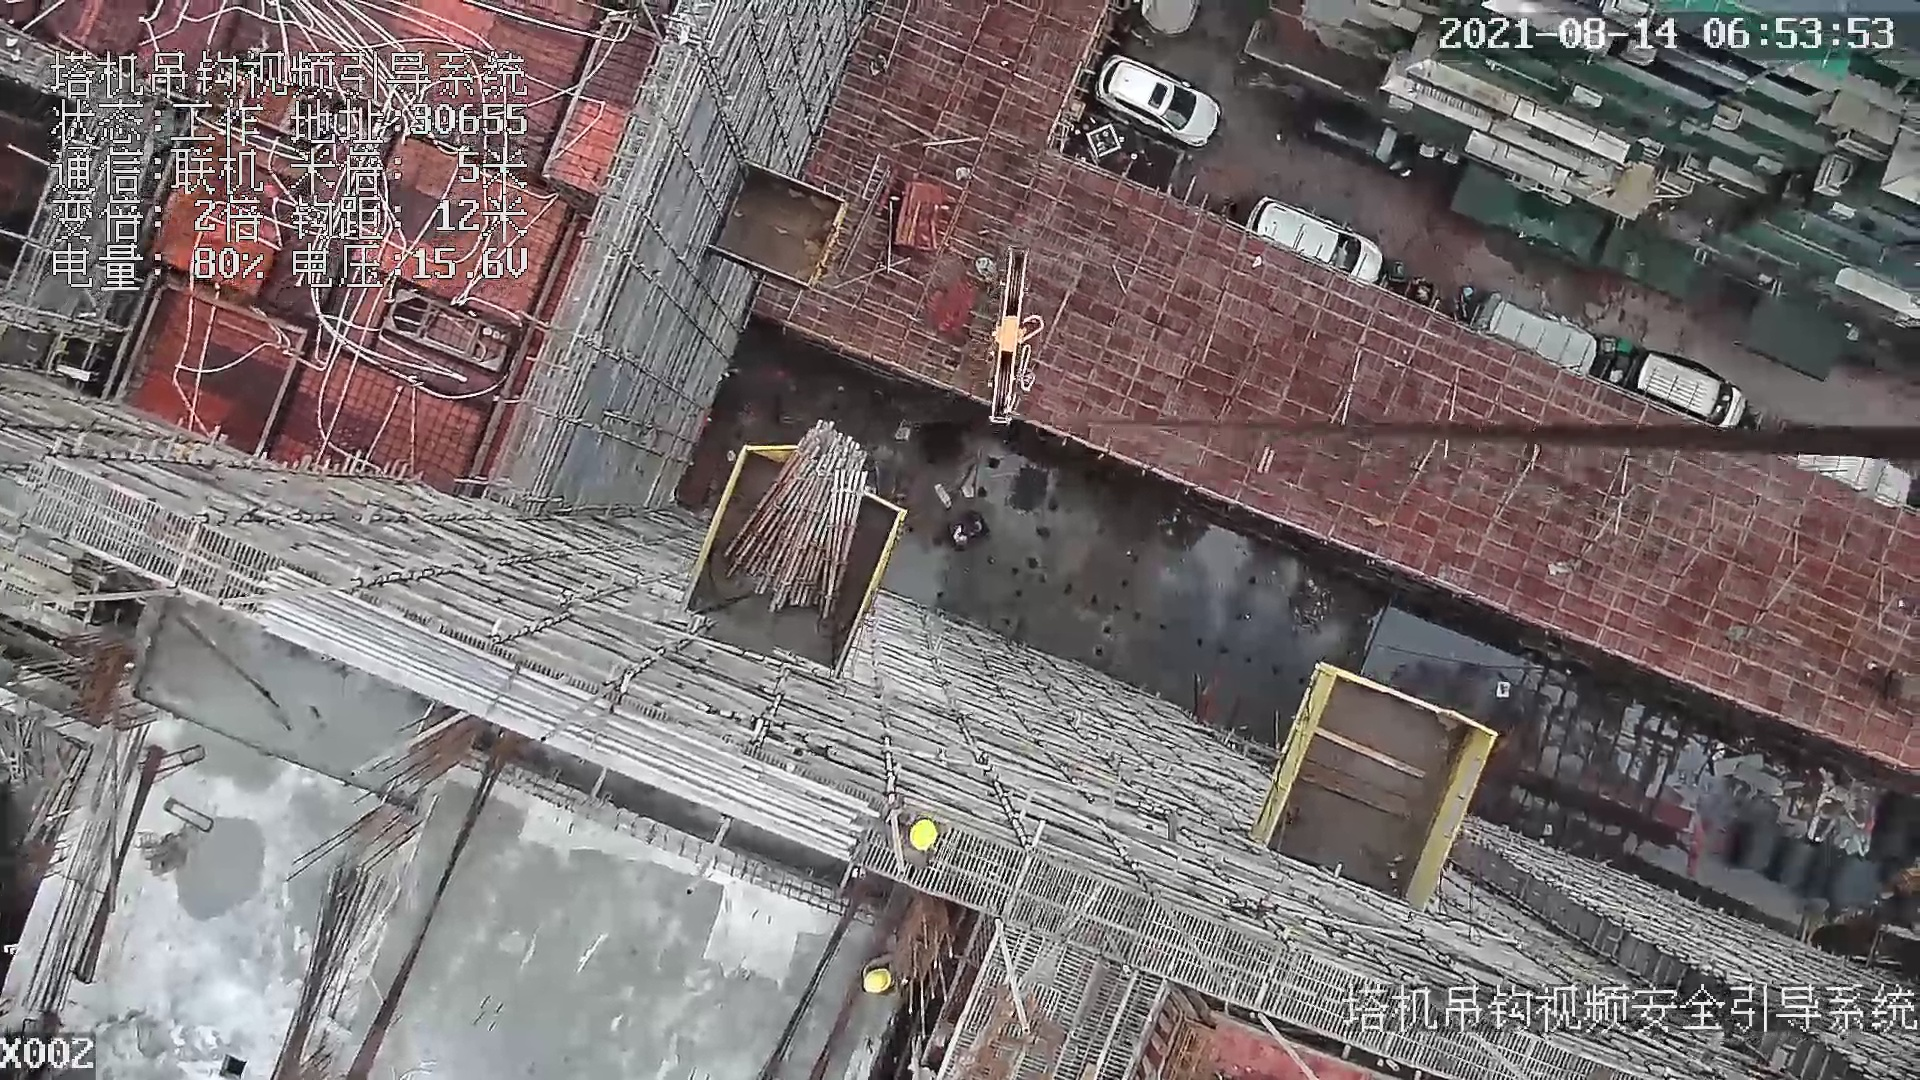helmet: (909, 819, 938, 850), (863, 969, 891, 994)
hook: (991, 242, 1041, 437)
person: (885, 813, 949, 873), (858, 950, 912, 1000)
rebar: (243, 569, 875, 856), (266, 869, 394, 1080)
scaffold: (724, 418, 869, 620)
